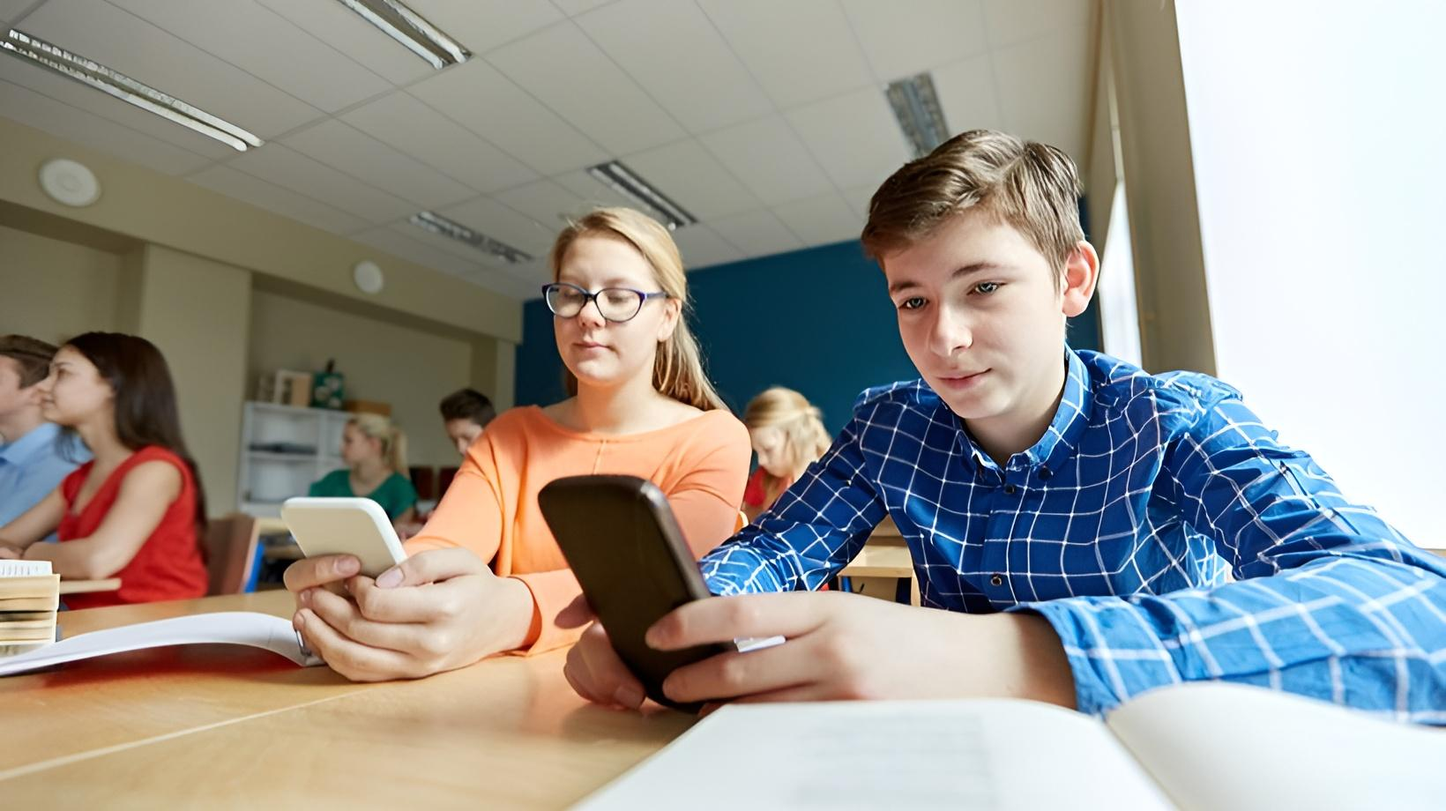phone: (539, 133, 1446, 732), (267, 210, 753, 673)
study: (0, 324, 209, 605), (0, 321, 97, 548), (295, 402, 411, 533)
